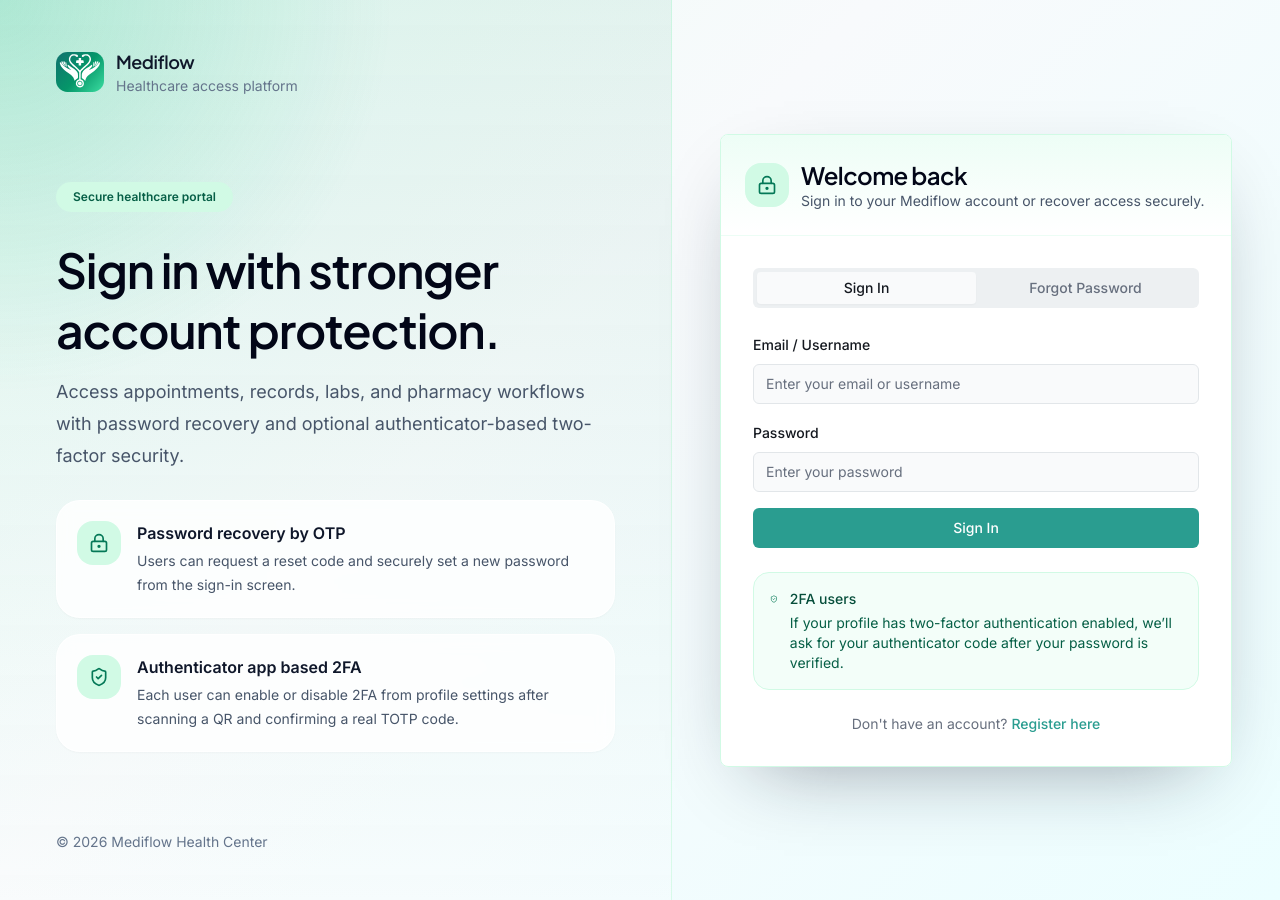
Mediflow - Unit Tests › Login Page › displays validation errors when submitting empty form
The image size is (1280, 900).
Click the button "Sign In" at [976, 528], box [753,508,1199,548]
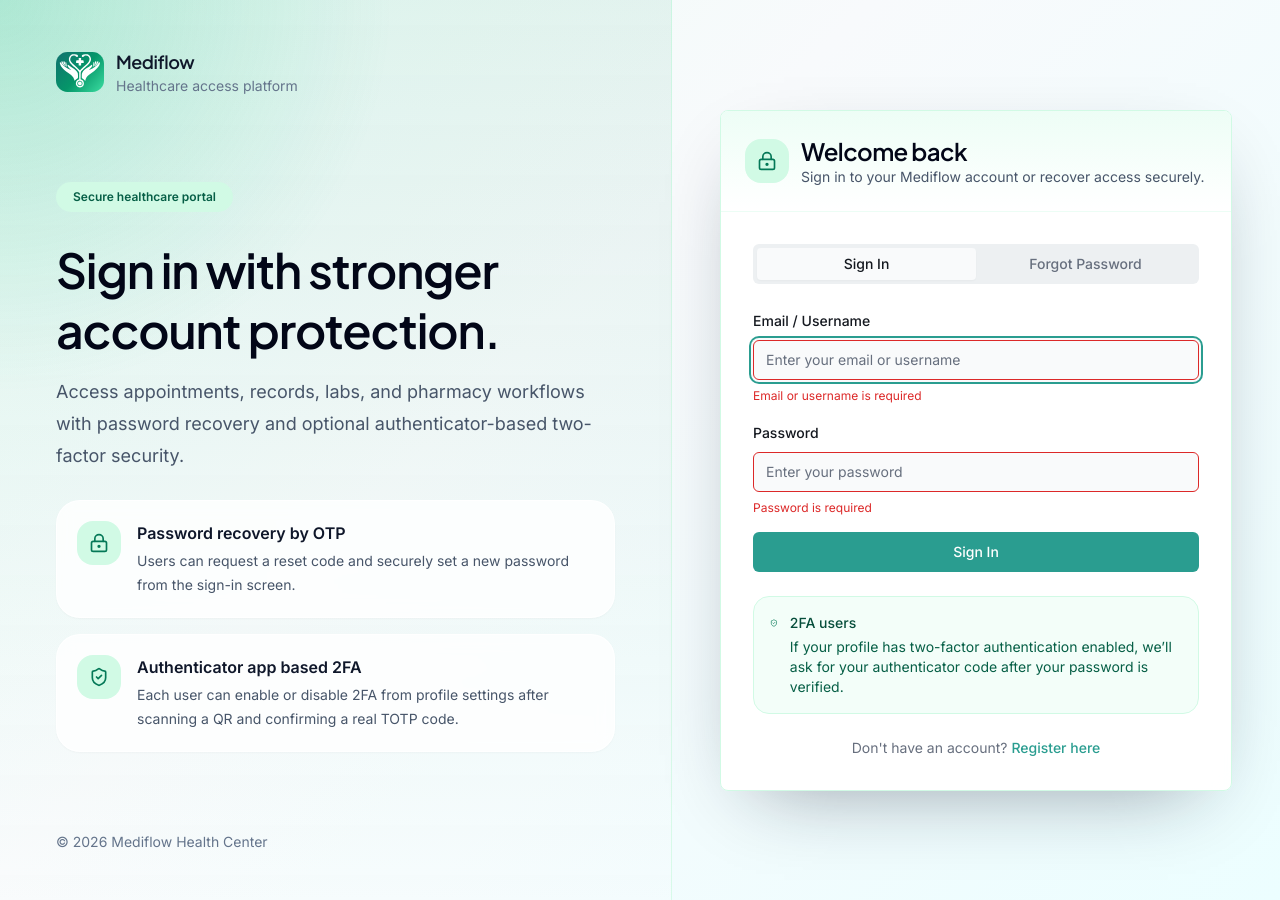
Check: the text "Email or username is required" is shown, box [753,388,922,402]
Check: the text "Password is required" is shown, box [753,500,872,514]
